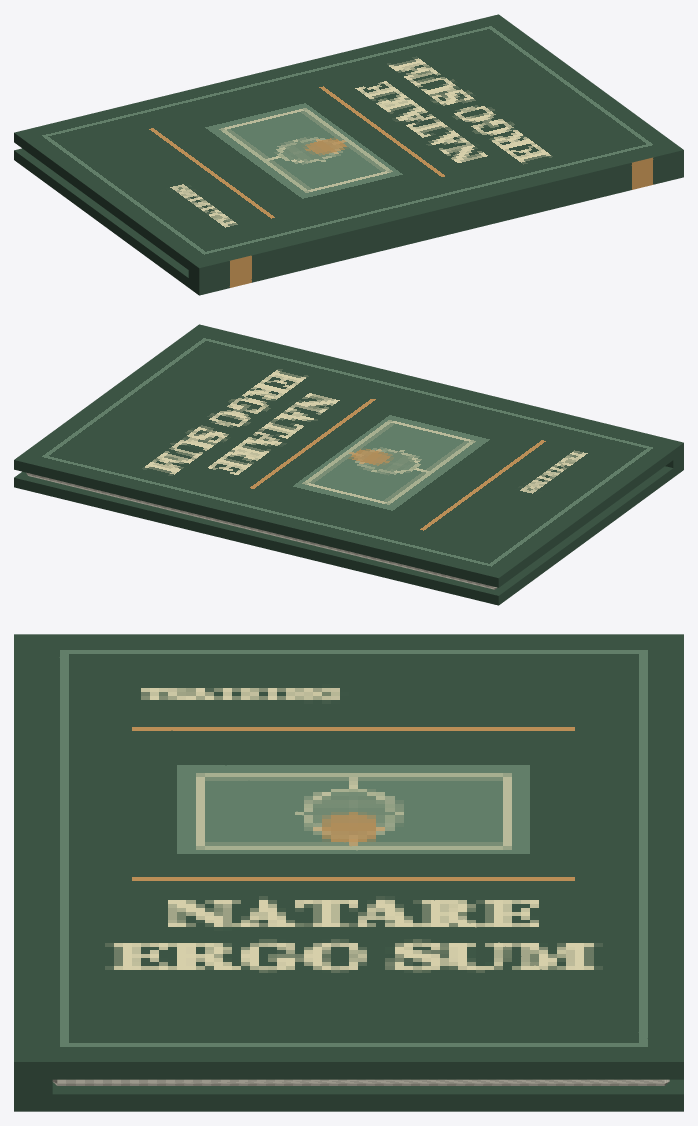
Rendered from book_nonf_hard_sports_ergo.glb.
3 renders of one model, top to bottom at view 1: azimuth 30°, elevation 25°; view 2: azimuth 150°, elevation 25°; view 3: azimuth 270°, elevation 25°, orthographic. The views are drawn at different scales.
Visible parts, largest first — view 1: block_front, block_spine, block_back; view 2: block_front, block_back, block_spine, block_pages; view 3: block_front, block_back, block_spine, block_pages.
Boxes of the visible parts, left/top/right/bottom form: block_front: left=14, top=14, right=672, bottom=275; block_spine: left=188, top=142, right=683, bottom=295; block_back: left=14, top=148, right=196, bottom=292; block_front: left=14, top=326, right=680, bottom=587; block_back: left=14, top=465, right=677, bottom=605; block_spine: left=192, top=324, right=683, bottom=474; block_pages: left=26, top=472, right=497, bottom=589; block_front: left=23, top=634, right=683, bottom=1079; block_back: left=23, top=1079, right=683, bottom=1111; block_spine: left=14, top=634, right=52, bottom=1111; block_pages: left=52, top=1079, right=669, bottom=1085.
Size of the model in its own units: 0.18 by 0.00971 by 0.1191.
Materials: 1 (1 with a texture image).
